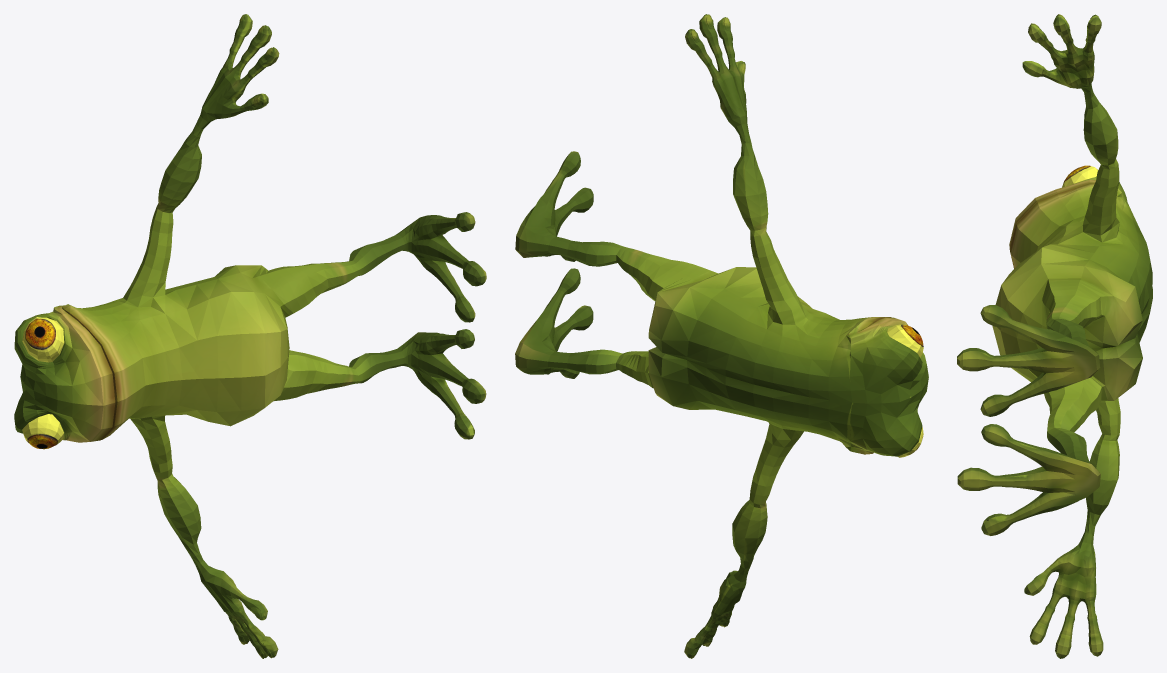
Rendered from frog_texture.obj.
The picture shows the model from 3 angles, left to right: view 1: azimuth 30°, elevation 25°; view 2: azimuth 150°, elevation 25°; view 3: azimuth 270°, elevation 25°; orthographic projection.
Size of the model in its own units: 3.74 by 5.58 by 1.54.
